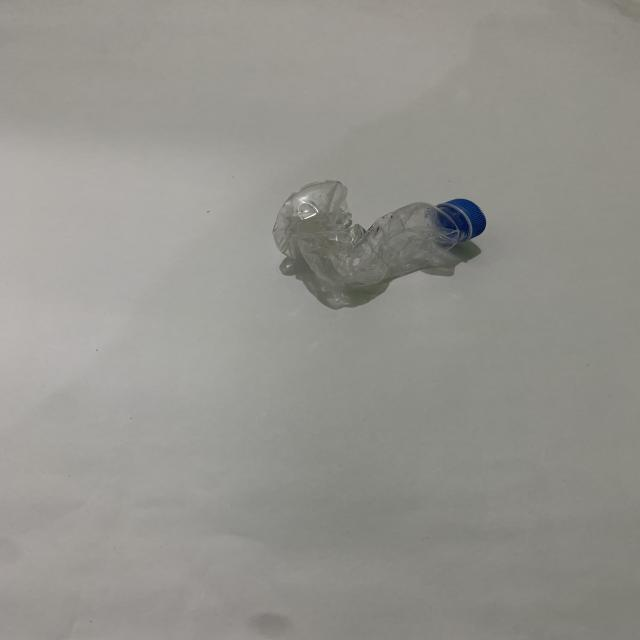bottle: (258, 167, 511, 309)
